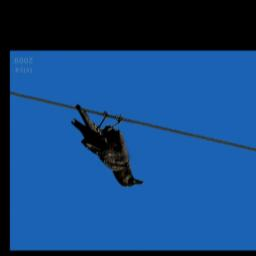Crow: (70, 104, 147, 188)
